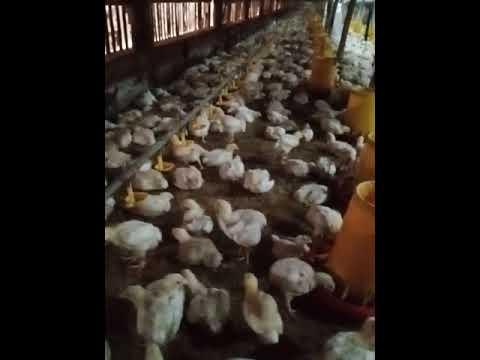chicken: (120, 272, 187, 353), (211, 196, 269, 264), (275, 257, 335, 317), (181, 269, 230, 331), (103, 221, 164, 269), (243, 274, 283, 343), (306, 205, 343, 239), (133, 191, 175, 217), (216, 107, 247, 139), (325, 130, 359, 158), (171, 133, 202, 163), (244, 165, 276, 193), (203, 143, 240, 167), (273, 128, 305, 155), (295, 183, 328, 204), (172, 168, 204, 189), (282, 159, 315, 174), (224, 156, 245, 179)
